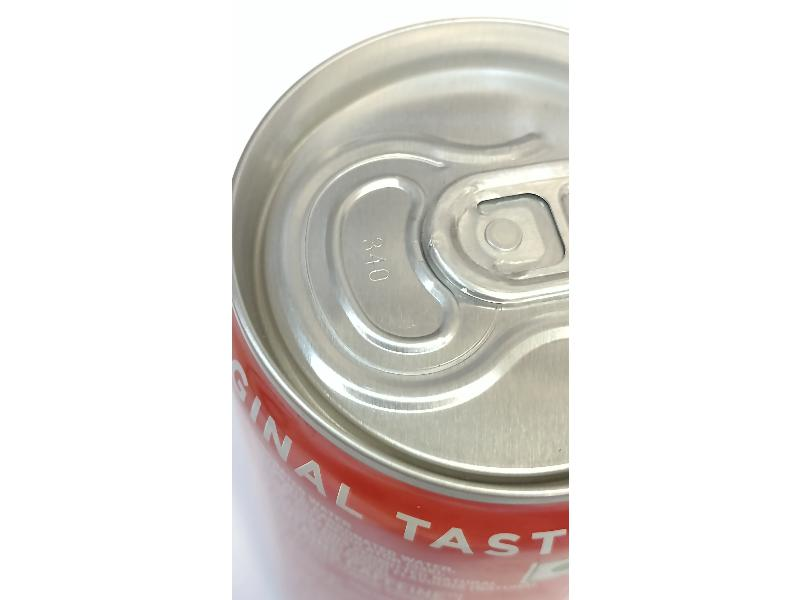can: (241, 15, 570, 591)
